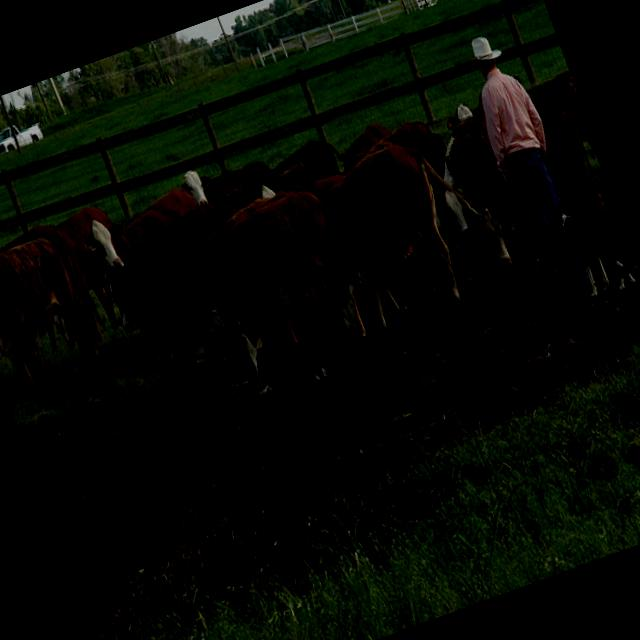Vehicle: (0, 114, 46, 158)
